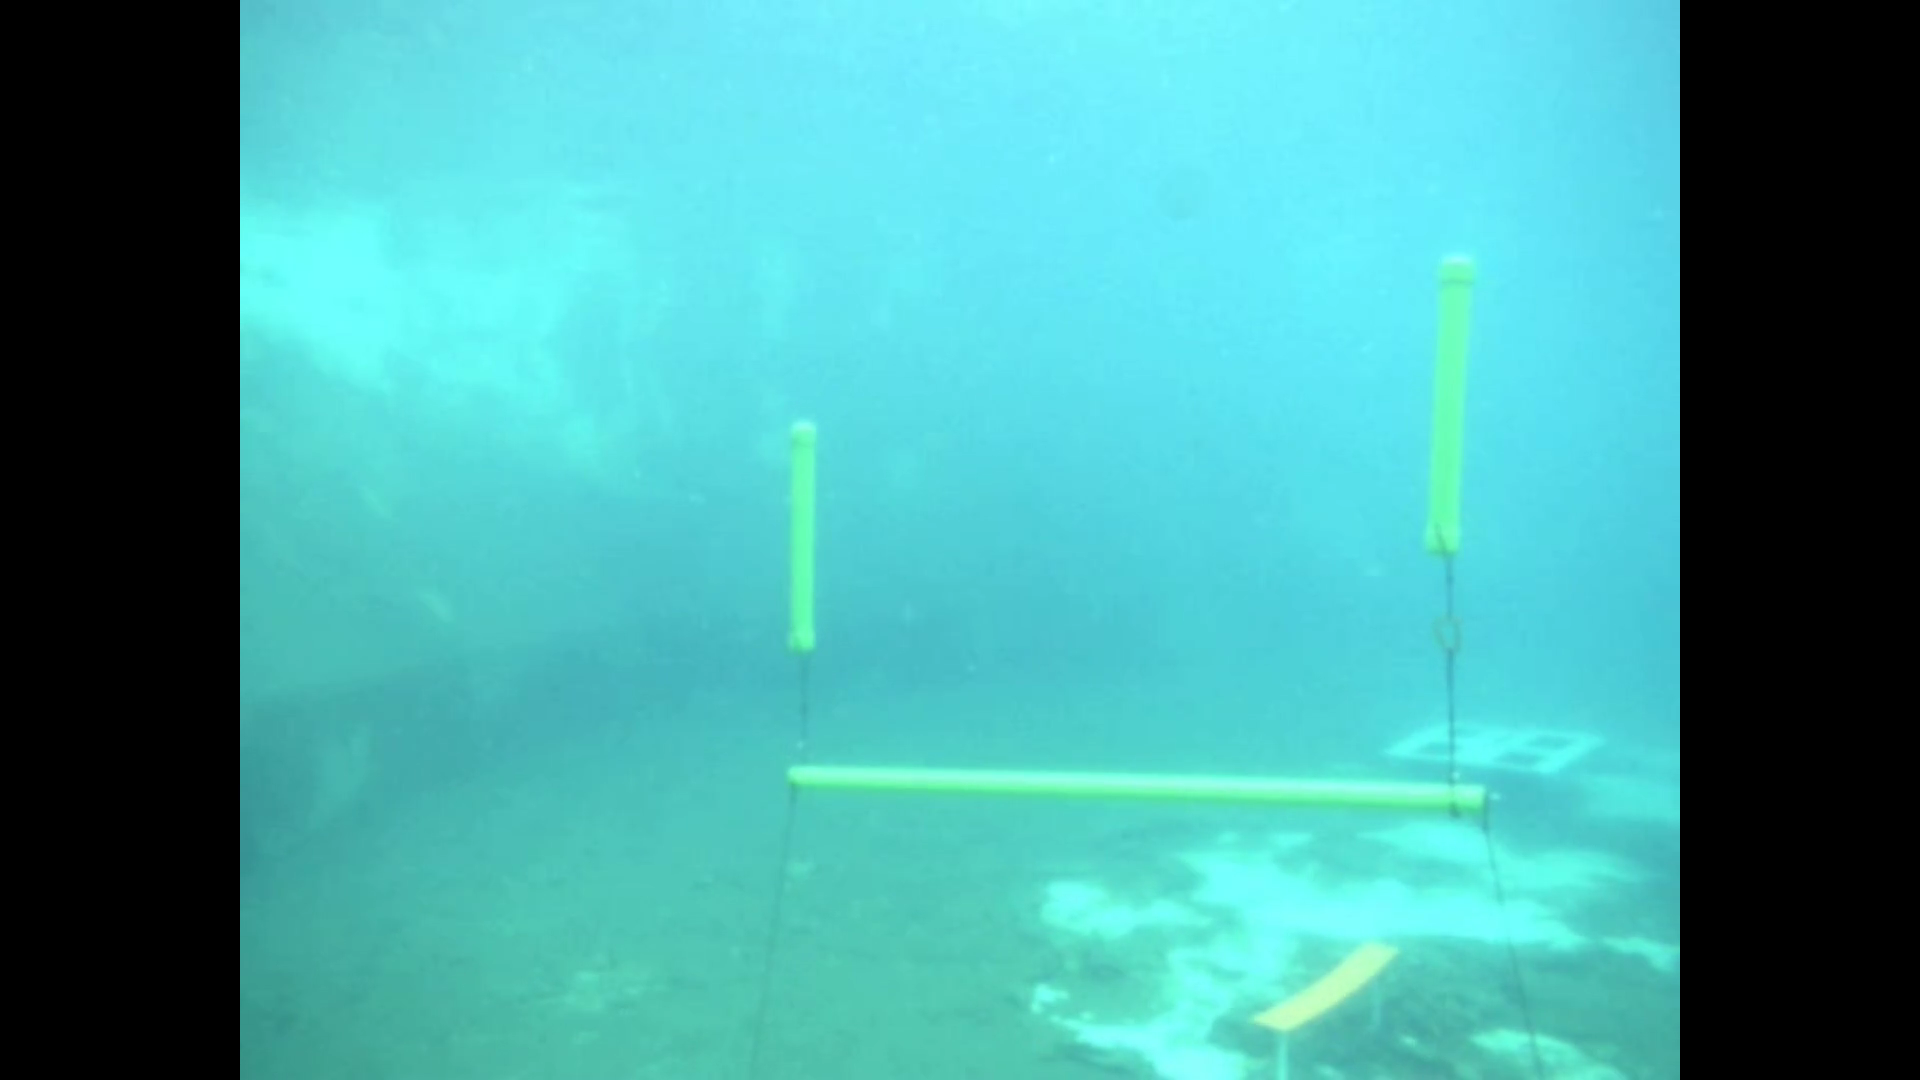gate: (778, 235, 1502, 819)
